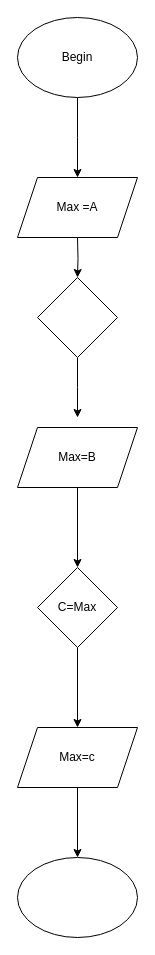
This 155x955 diagram has some shape labels left out. The shapes that lost their labels are listed below. From the top down, each one's box as (x1, y1, x2, y2) in pixels, then its label:
(36, 276, 118, 358): B=Max
(16, 856, 138, 938): End
